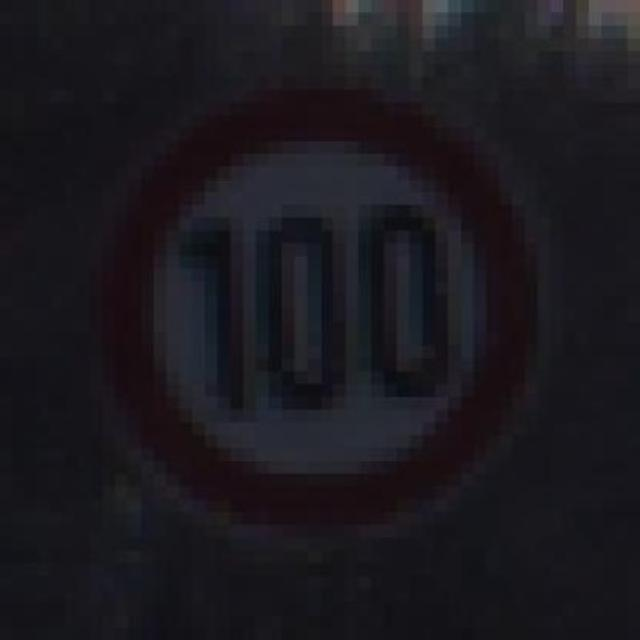forb_speed_over_100: (96, 88, 541, 544)
